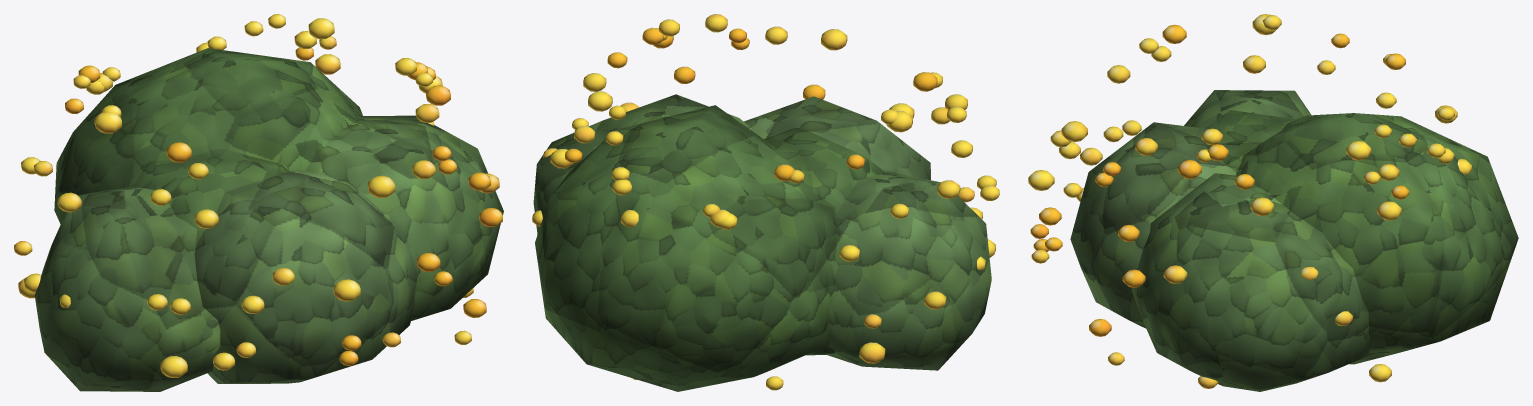
Rendered from gorse.glb.
3 views of the same model, side by side, from view 1: azimuth 30°, elevation 25°; view 2: azimuth 150°, elevation 25°; view 3: azimuth 270°, elevation 25° (orthographic). The views are drawn at different scales.
Parts seen in each view (by area): view 1: Gorse_leaf, GorseFlowers; view 2: Gorse_leaf, GorseFlowers; view 3: Gorse_leaf, GorseFlowers.
Boxes of the visible parts, left/top/right/bottom form: Gorse_leaf: left=34, top=48, right=503, bottom=391; GorseFlowers: left=14, top=14, right=502, bottom=377; Gorse_leaf: left=533, top=94, right=991, bottom=391; GorseFlowers: left=532, top=14, right=999, bottom=390; Gorse_leaf: left=1070, top=90, right=1518, bottom=391; GorseFlowers: left=1028, top=14, right=1471, bottom=388.
Bounding box in the file's own units: 1.36 × 0.8892 × 1.4.
Materials: 1 (1 with a texture image).
